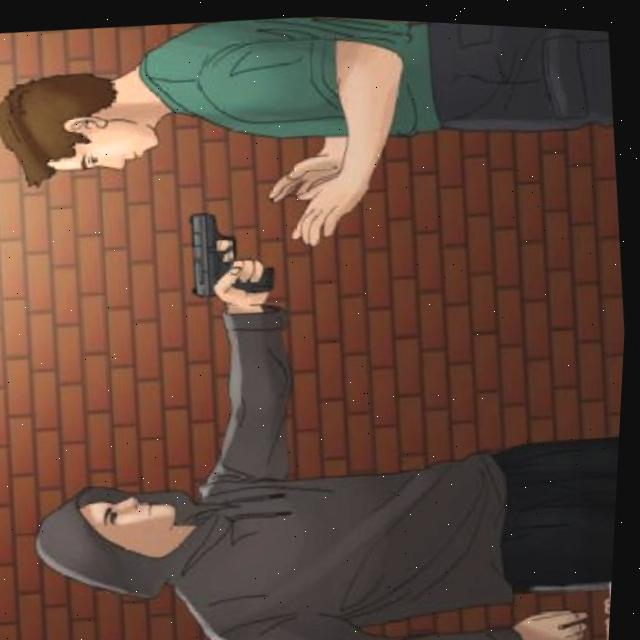gun: (180, 202, 286, 305)
